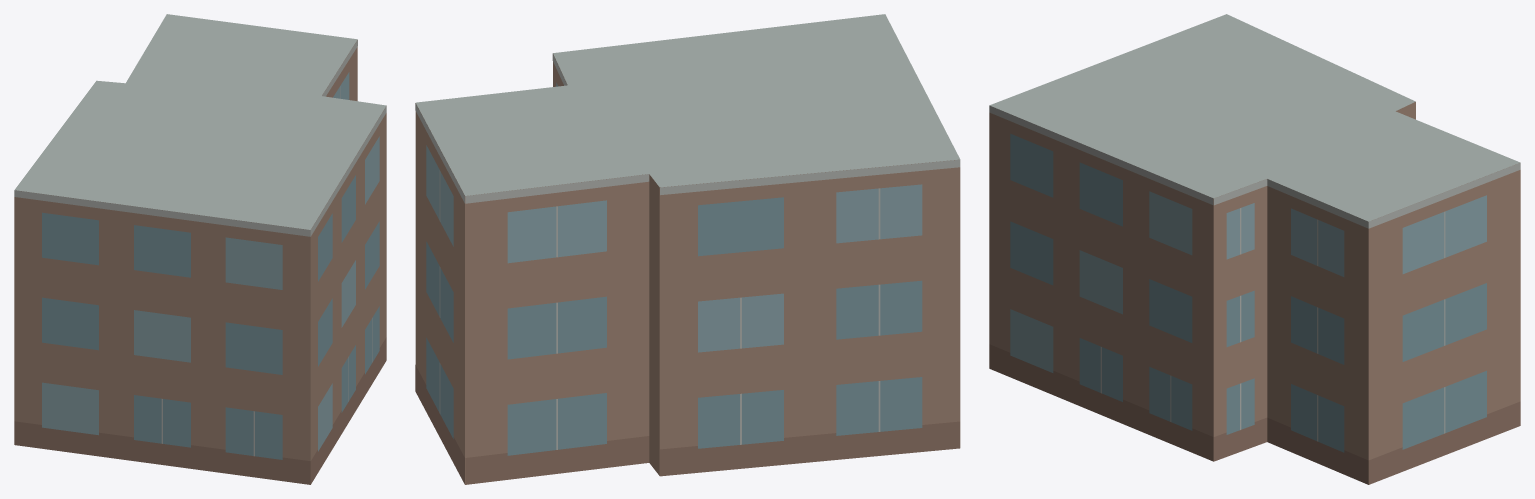
The model's file is survey-upis-32911348.glb.
The picture shows the model from 3 angles, left to right: view 1: azimuth 30°, elevation 25°; view 2: azimuth 150°, elevation 25°; view 3: azimuth 270°, elevation 25°; orthographic projection. The views are drawn at different scales.
Parts seen in each view (by area): view 1: survey-upis-32911348.tmp; view 2: survey-upis-32911348.tmp; view 3: survey-upis-32911348.tmp.
Boxes of the visible parts, x1=… form: survey-upis-32911348.tmp: x1=14, y1=14, x2=386, y2=484; survey-upis-32911348.tmp: x1=415, y1=14, x2=960, y2=484; survey-upis-32911348.tmp: x1=989, y1=14, x2=1520, y2=484.
Size of the model in its own units: 15.41 by 9.1 by 16.66.
